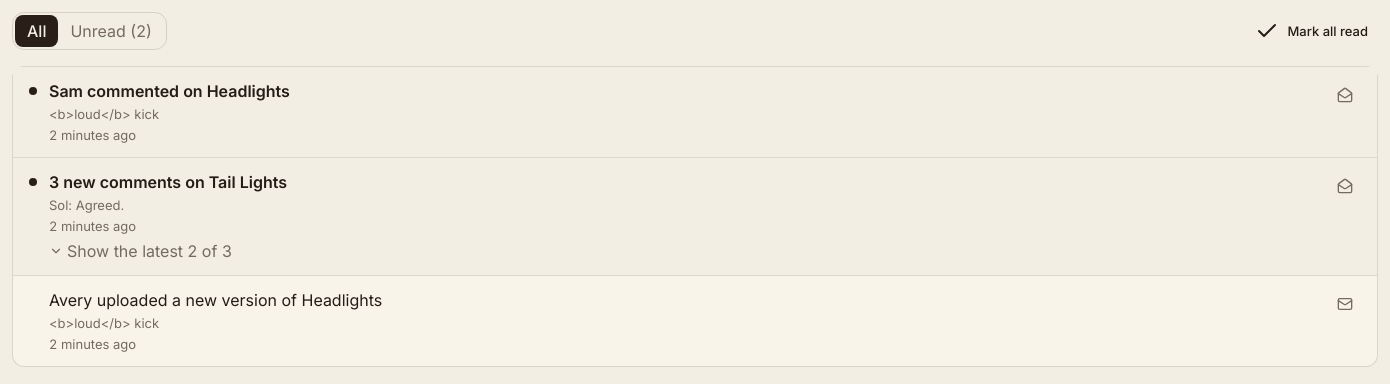
Scenario: notification center (task 095) › marks one read at once, and all read in bulk
Click the button named "Mark “Sam commented on Headlights” read": [1345, 95] box [1329, 79, 1361, 111]
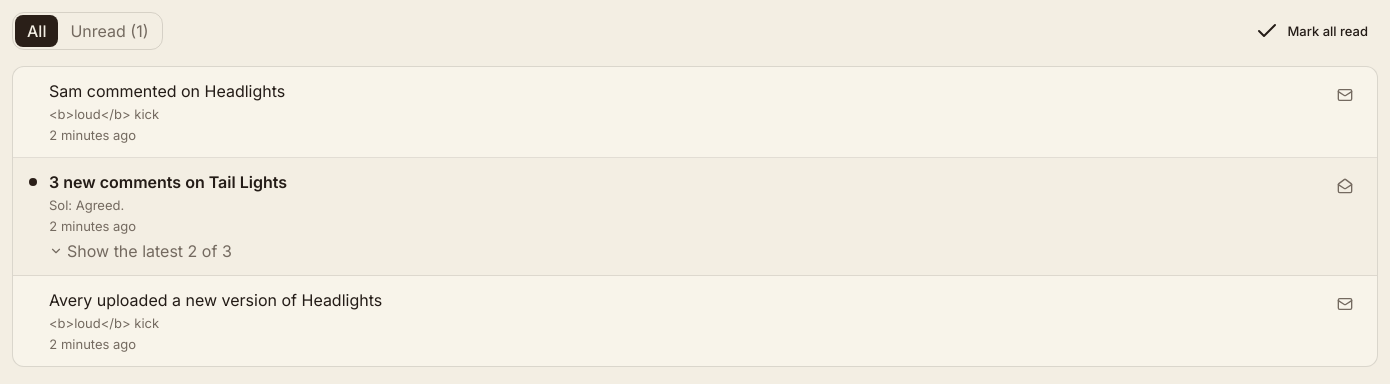
Expected: the link "Sam commented on Headlights" is shown, [49, 81, 285, 101]
Now the button "Unread (1)" is shown, box [58, 15, 160, 47]
Click the button "Mark all read": [1312, 31] box [1245, 15, 1378, 47]
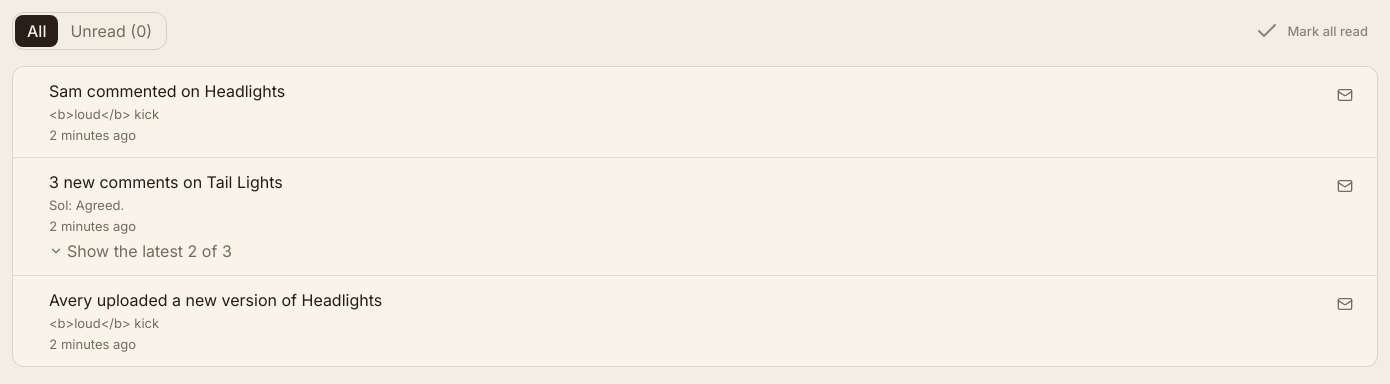
Now the button "Unread (0)" is shown, box [58, 15, 164, 47]
